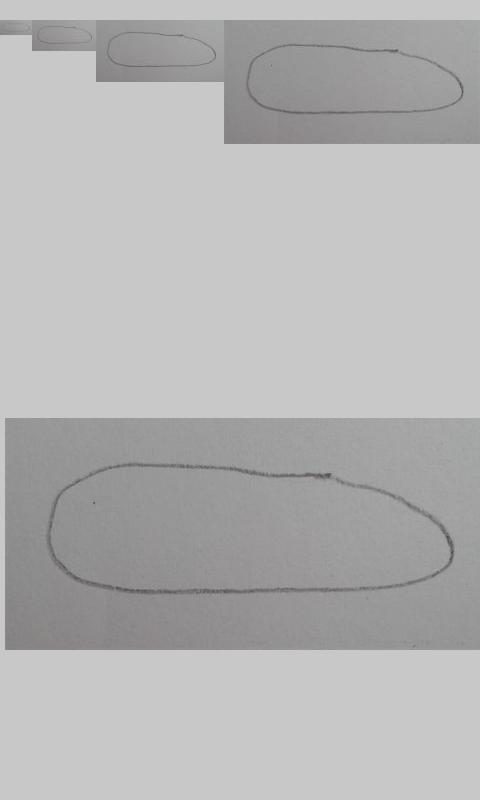chip: (45, 463, 456, 594), (246, 43, 466, 115), (106, 31, 217, 68), (37, 25, 94, 46), (2, 22, 30, 33)
